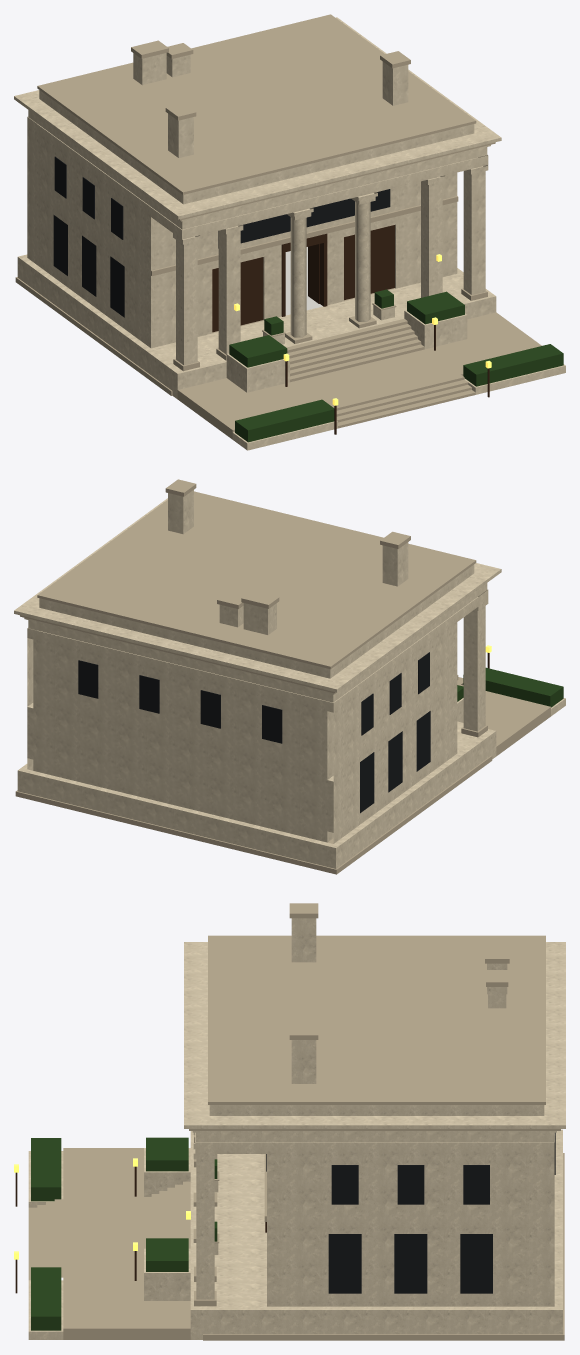
The model's file is greco_house.glb.
3 views of the same model, one above another, from view 1: azimuth 30°, elevation 25°; view 2: azimuth 150°, elevation 25°; view 3: azimuth 270°, elevation 25° (orthographic). The views are drawn at different scales.
Visible parts, largest first — view 1: greco_house; view 2: greco_house; view 3: greco_house.
Boxes of the visible parts, <box> form: greco_house: <box>14,14,565,450</box>; greco_house: <box>14,479,565,874</box>; greco_house: <box>14,903,565,1340</box>.
Size of the model in its own units: 21.1 by 15.05 by 26.87.
Materials: 7 (1 with a texture image).
